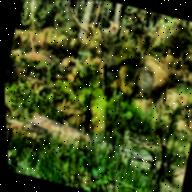boar: (85, 41, 182, 125)
